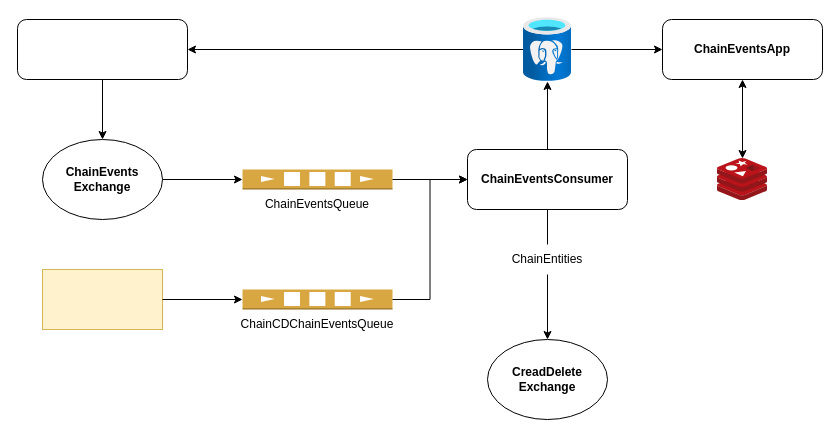
This 840x437 diagram has some shape labels left out. Each missing label, with the box of its shape:
ChainEventsSubscriber: (16, 18, 188, 80)
Main Service: (42, 268, 162, 330)
